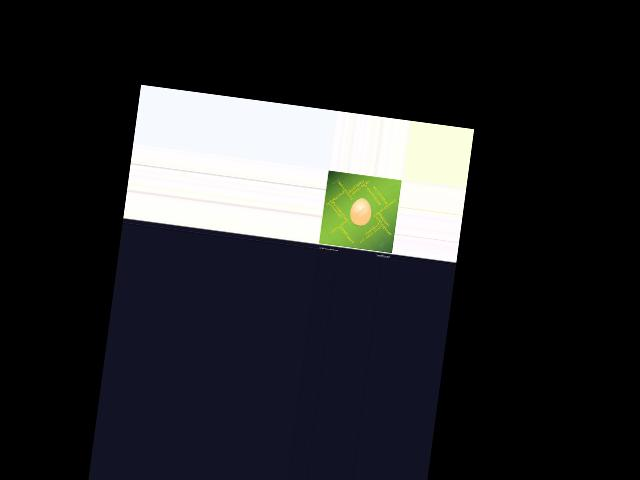egg: (348, 197, 372, 226)
